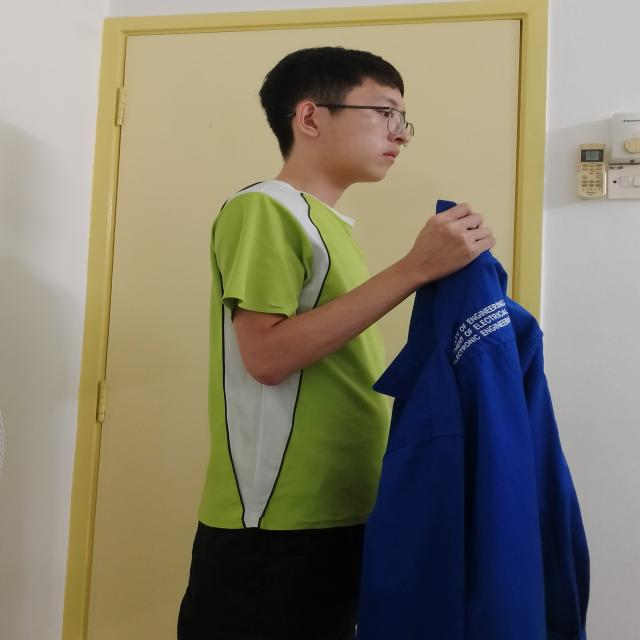person_without_labcoat: (177, 49, 588, 640)
